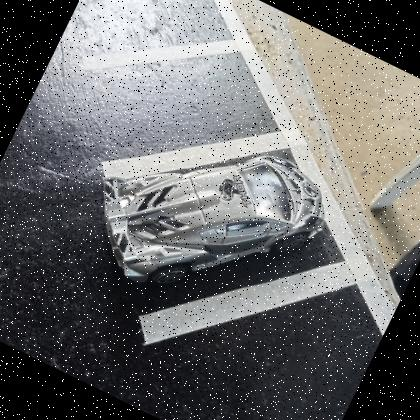Car: (101, 155, 323, 287)
